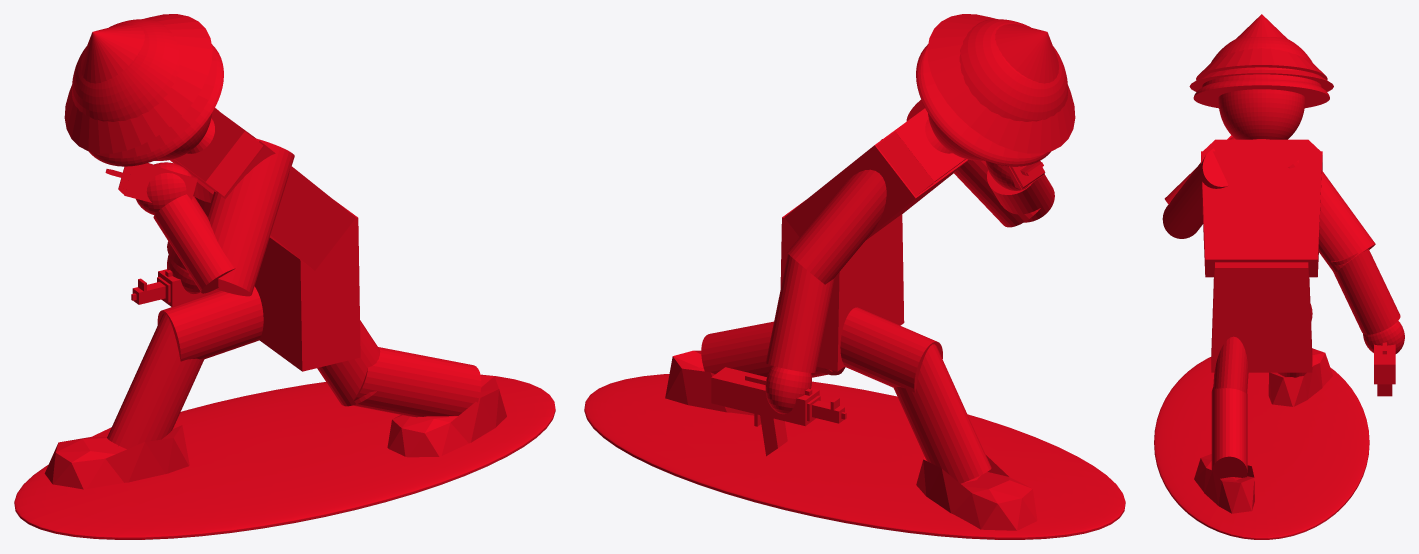
Rendered from toysoldier1(RED).fbx.
The picture shows the model from 3 angles, left to right: view 1: azimuth 30°, elevation 25°; view 2: azimuth 150°, elevation 25°; view 3: azimuth 270°, elevation 25°; orthographic projection. The views are drawn at different scales.
Parts seen in each view (by area): view 1: Cylinder, Cube.001, Cone, Cube, Cone.002, Cylinder.003, Cylinder.007, Cylinder.006, Icosphere.006, Cylinder.004, Icosphere.001, Cylinder.002 (+5 smaller); view 2: Cylinder, Cone, Cone.002, Cube, Cube.001, Cylinder.006, Cylinder.001, Icosphere.006, Cylinder.005, Cylinder.004, Cube.007, Cylinder.007 (+5 smaller); view 3: Cylinder, Cube, Cube.001, Cone.002, Cylinder.005, Cylinder.007, Cylinder.001, Cylinder.003, Cone, Icosphere.001, Icosphere.006, Cylinder.008 (+3 smaller).
Boxes of the visible parts, x1=… form: Cylinder: x1=14, y1=374, x2=555, y2=539; Cube.001: x1=254, y1=201, x2=360, y2=371; Cone: x1=64, y1=14, x2=212, y2=153; Cube: x1=170, y1=108, x2=355, y2=270; Cone.002: x1=72, y1=19, x2=223, y2=166; Cylinder.003: x1=188, y1=138, x2=294, y2=296; Cylinder.007: x1=352, y1=347, x2=481, y2=417; Cylinder.006: x1=107, y1=313, x2=204, y2=449; Icosphere.006: x1=44, y1=423, x2=189, y2=489; Cylinder.004: x1=157, y1=286, x2=263, y2=361; Icosphere.001: x1=387, y1=376, x2=506, y2=457; Cylinder.002: x1=153, y1=194, x2=235, y2=293; Cylinder: x1=584, y1=374, x2=1125, y2=539; Cone: x1=927, y1=14, x2=1075, y2=153; Cone.002: x1=916, y1=19, x2=1067, y2=166; Cube: x1=784, y1=108, x2=968, y2=239; Cube.001: x1=780, y1=201, x2=904, y2=371; Cylinder.006: x1=893, y1=344, x2=991, y2=483; Cylinder.001: x1=787, y1=139, x2=886, y2=284; Icosphere.006: x1=916, y1=455, x2=1037, y2=530; Cylinder.005: x1=766, y1=254, x2=834, y2=372; Cylinder.004: x1=840, y1=307, x2=942, y2=392; Cube.007: x1=711, y1=367, x2=846, y2=456; Cylinder.007: x1=701, y1=321, x2=832, y2=377; Cylinder: x1=1154, y1=357, x2=1369, y2=539; Cube: x1=1201, y1=139, x2=1322, y2=277; Cube.001: x1=1211, y1=262, x2=1312, y2=372; Cone.002: x1=1193, y1=37, x2=1329, y2=139; Cylinder.005: x1=1330, y1=249, x2=1400, y2=334; Cylinder.007: x1=1211, y1=386, x2=1247, y2=478; Cylinder.001: x1=1288, y1=160, x2=1375, y2=273; Cylinder.003: x1=1162, y1=148, x2=1228, y2=238; Cone: x1=1196, y1=14, x2=1327, y2=80; Icosphere.001: x1=1194, y1=454, x2=1254, y2=513; Icosphere.006: x1=1268, y1=348, x2=1332, y2=406; Cylinder.008: x1=1213, y1=336, x2=1248, y2=393.
Size of the model in its own units: 423 by 372 by 233.
